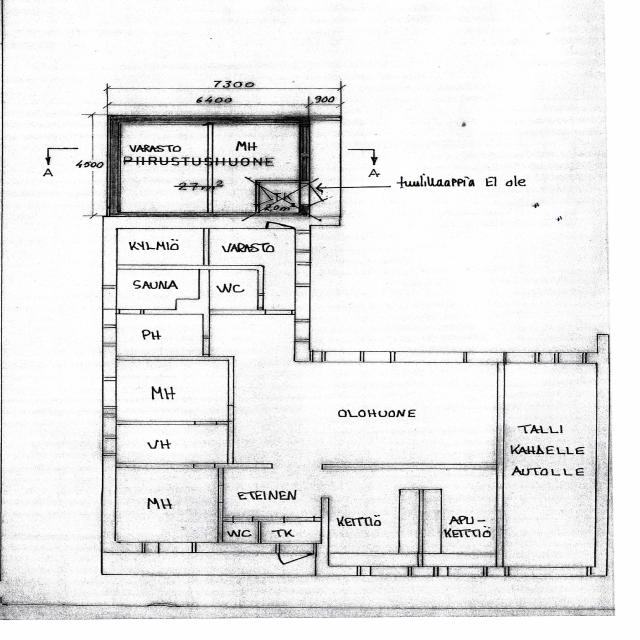door: (321, 470, 368, 498), (279, 543, 313, 578), (266, 193, 294, 229), (294, 233, 340, 254), (300, 183, 340, 204), (176, 151, 212, 172), (267, 310, 292, 331)
